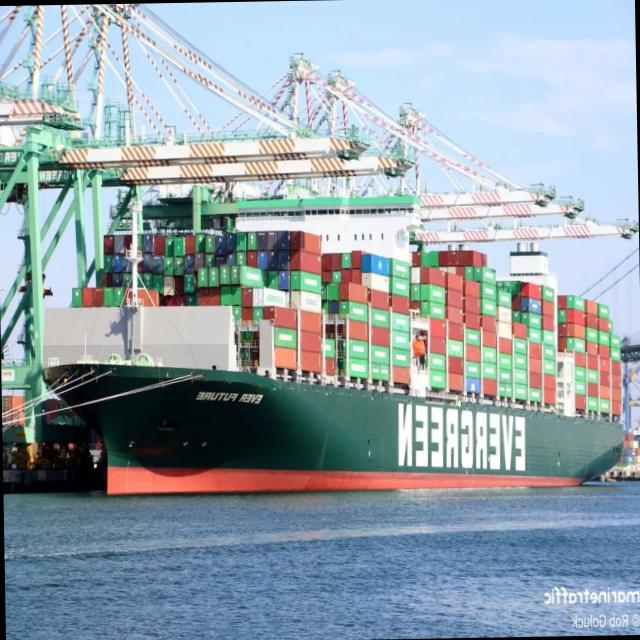Cargo: (43, 195, 623, 493)
